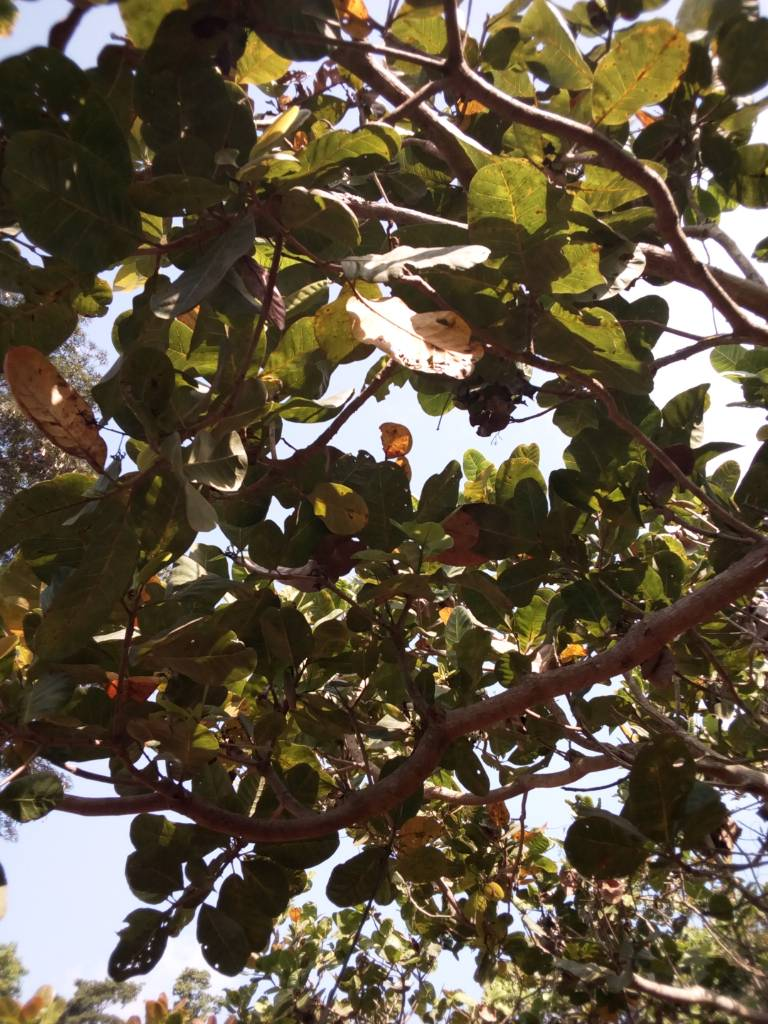Anthracnose: (315, 278, 482, 388), (586, 14, 696, 128), (4, 342, 105, 464), (1, 239, 71, 353), (305, 478, 377, 541)
